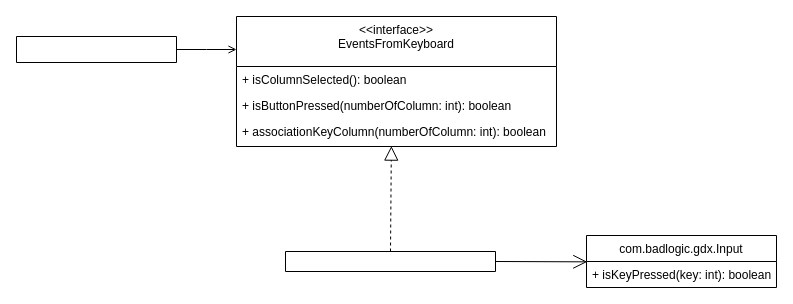
This 793x304 diagram has some shape labels left out. Each missing label, with the centre of its shape:
"EventsFromKeyboardImpl" belongs at (390,261).
"PlayScreen" belongs at (96,49).
